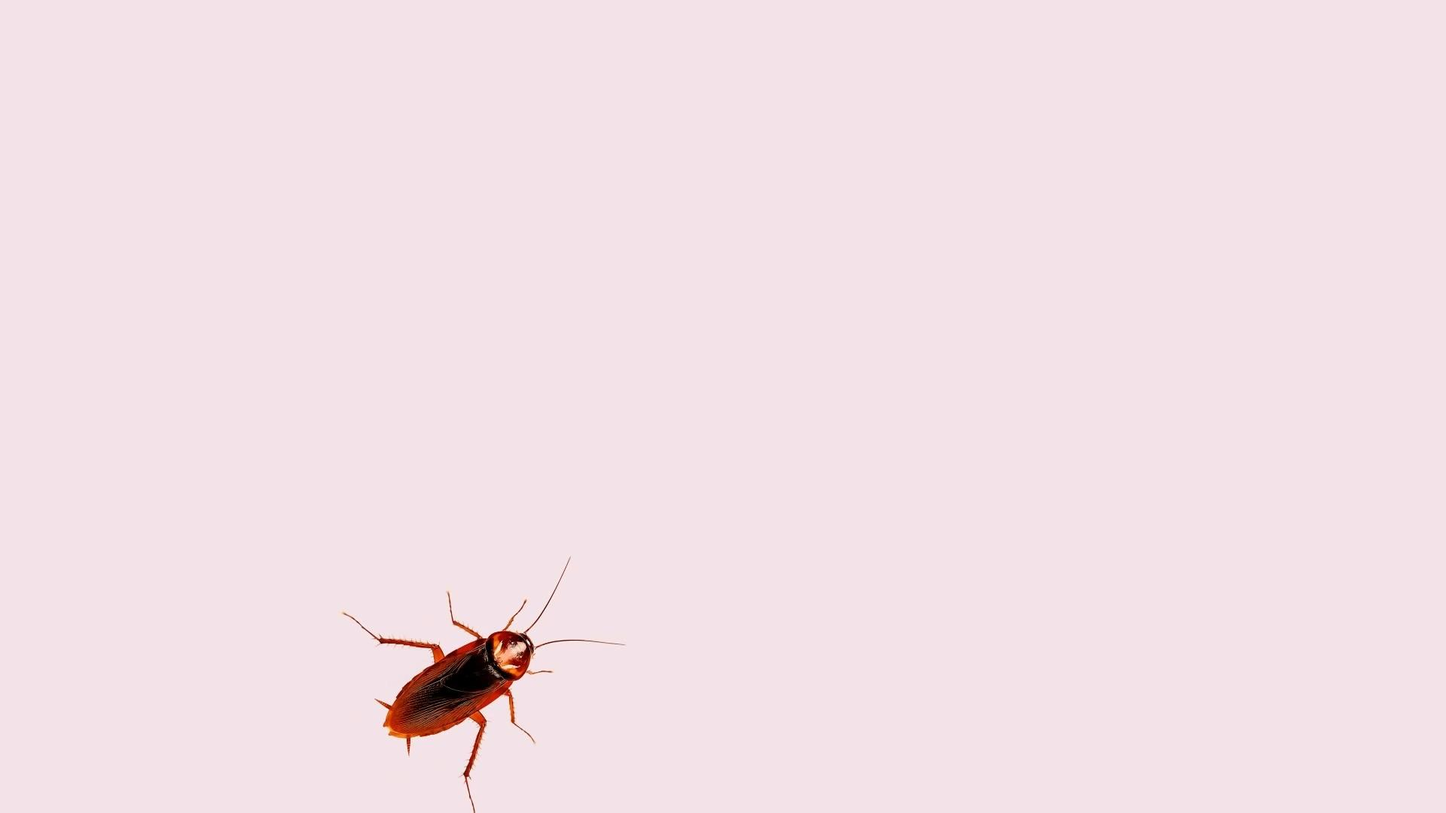cockroach: (314, 548, 628, 810)
